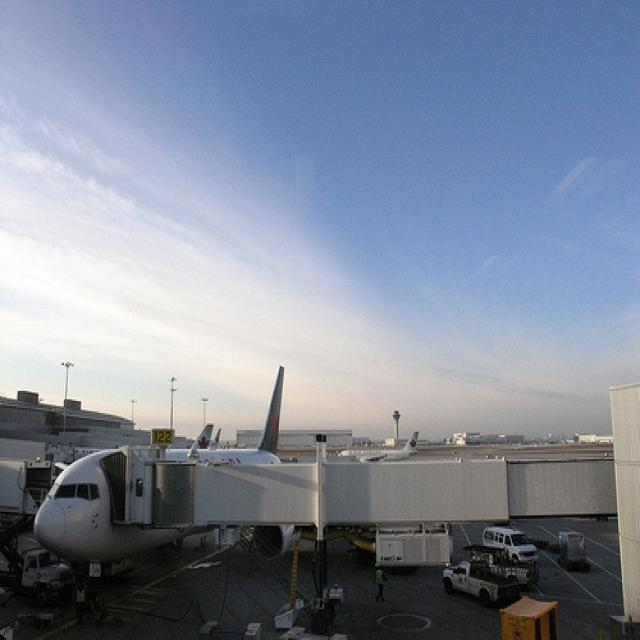aeroplane: (34, 366, 298, 568), (338, 430, 421, 469)
car: (442, 554, 517, 608), (480, 526, 539, 565)
